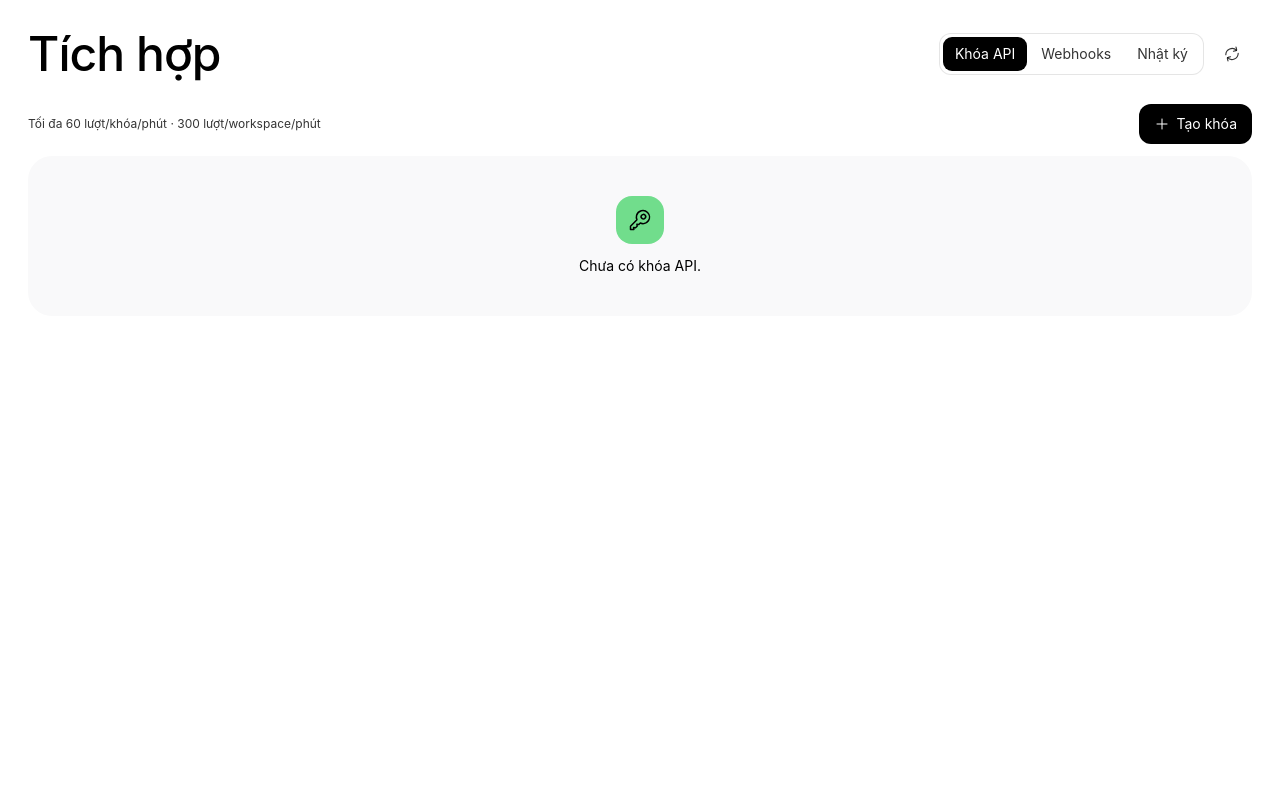
creates only scoped read keys and never exposes developer controls or login
Click the button "Tạo khóa": (1196,124) [1139,104,1252,144]
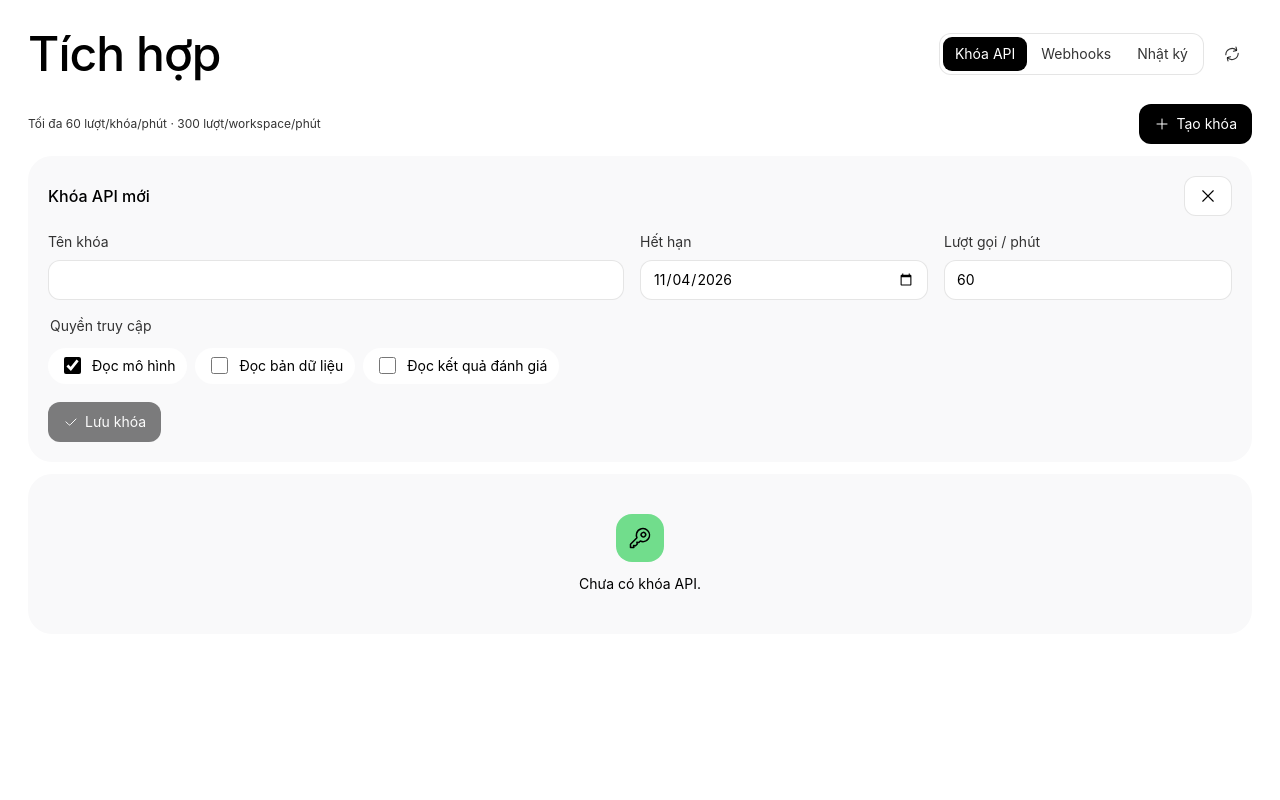
In the field labelled "Tên khóa": (336,280) [48,260,624,300], type "CRM"
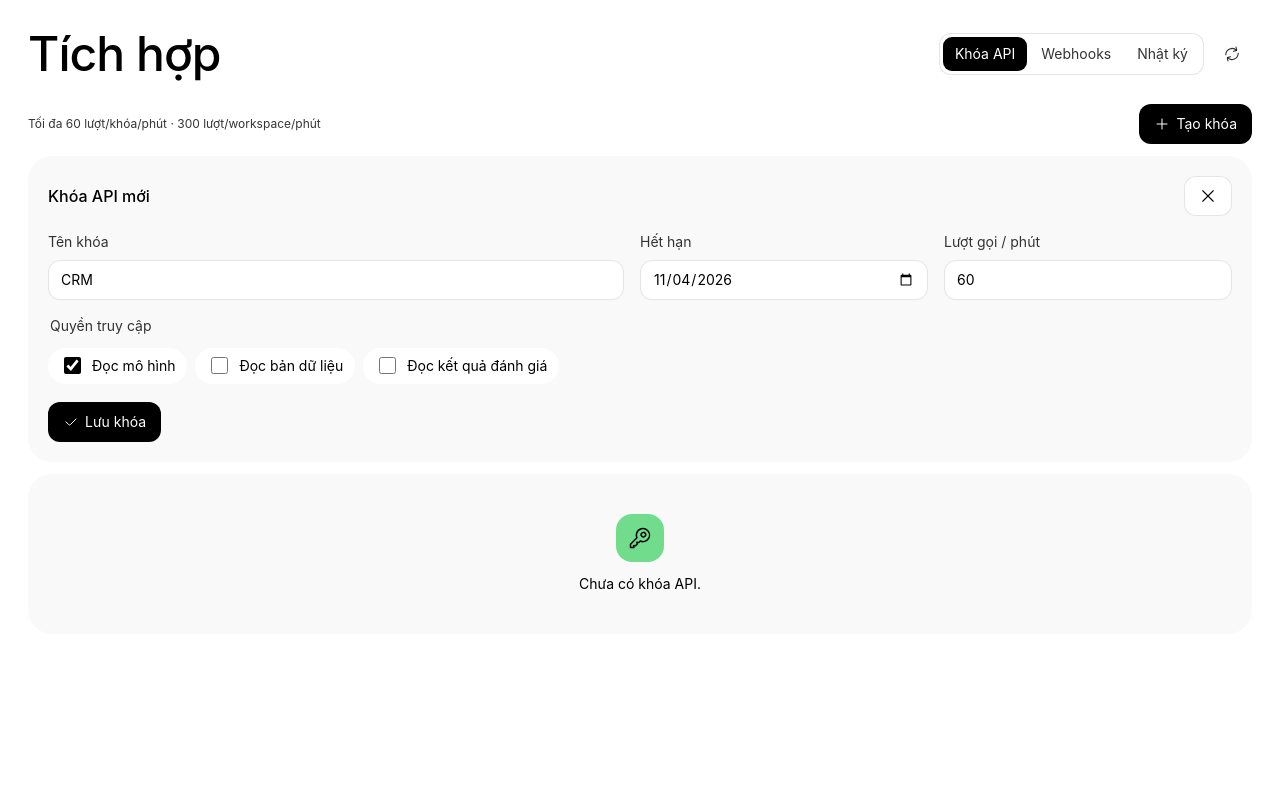
Click the button "Lưu khóa": (105,422) [48,402,161,442]
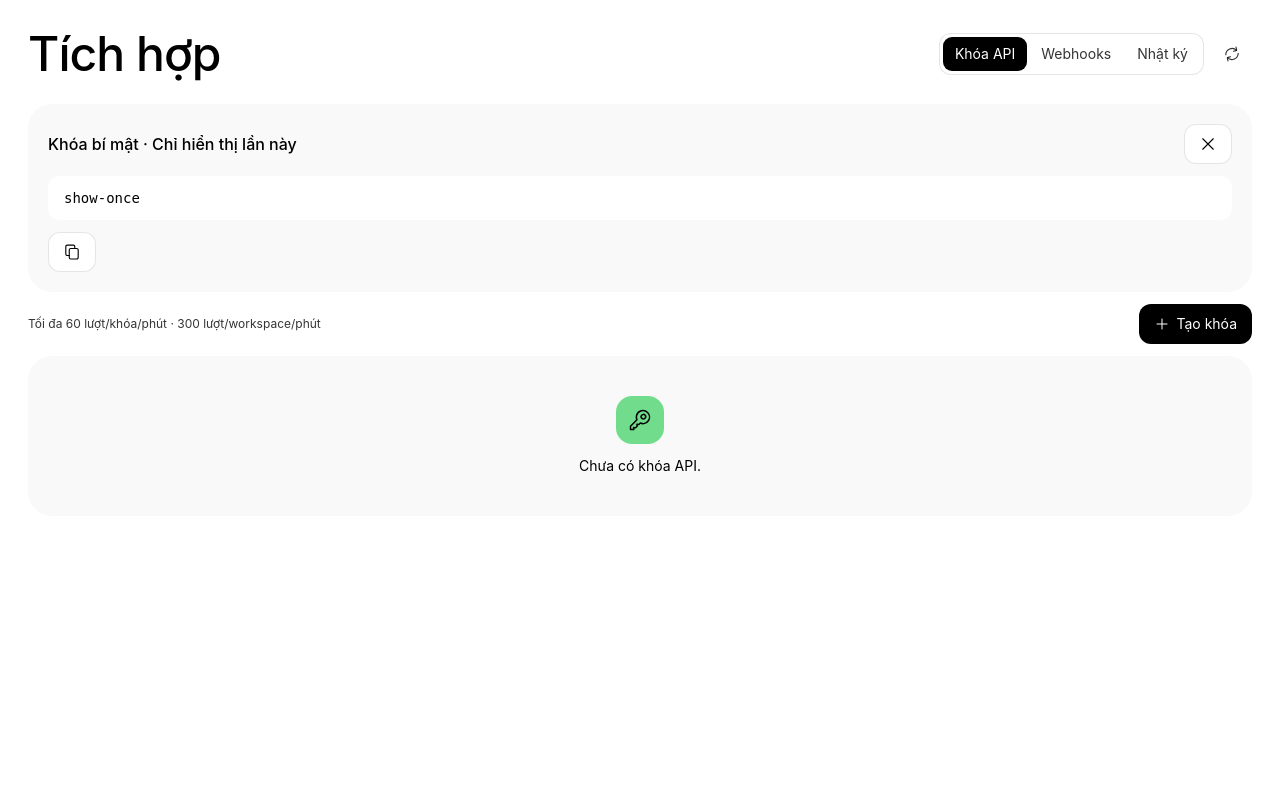
Check: the text "show-once" is shown, box [48,176,1232,220]
Click the button named "Đóng khóa bí mật": (1208,144) [1184,124,1232,164]
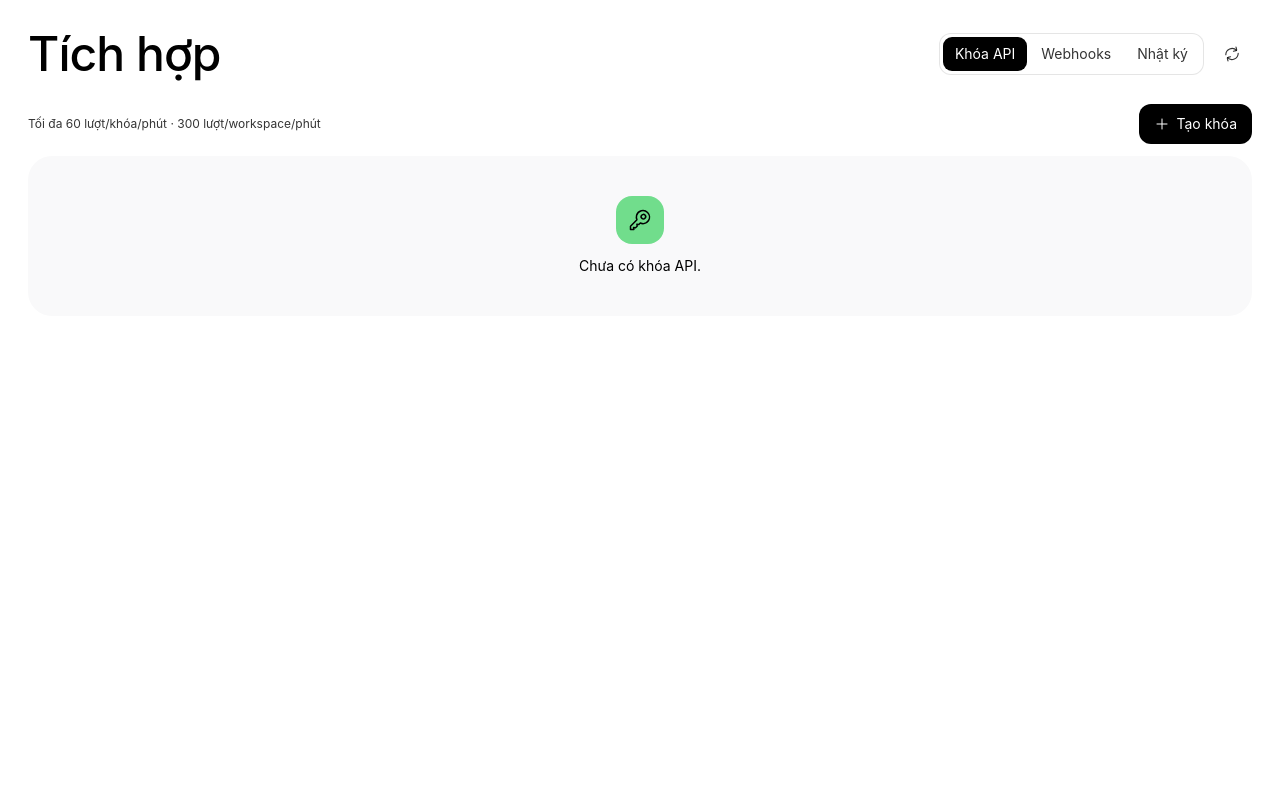
Check: the text "show-once" is gone
